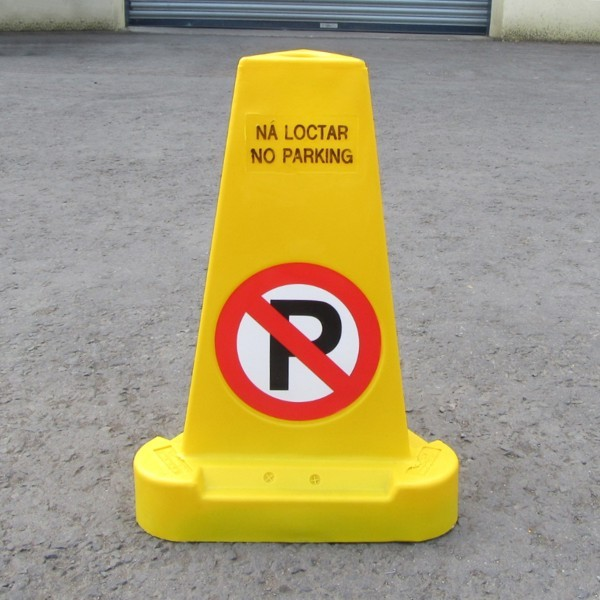yellowC: (122, 41, 471, 558)
